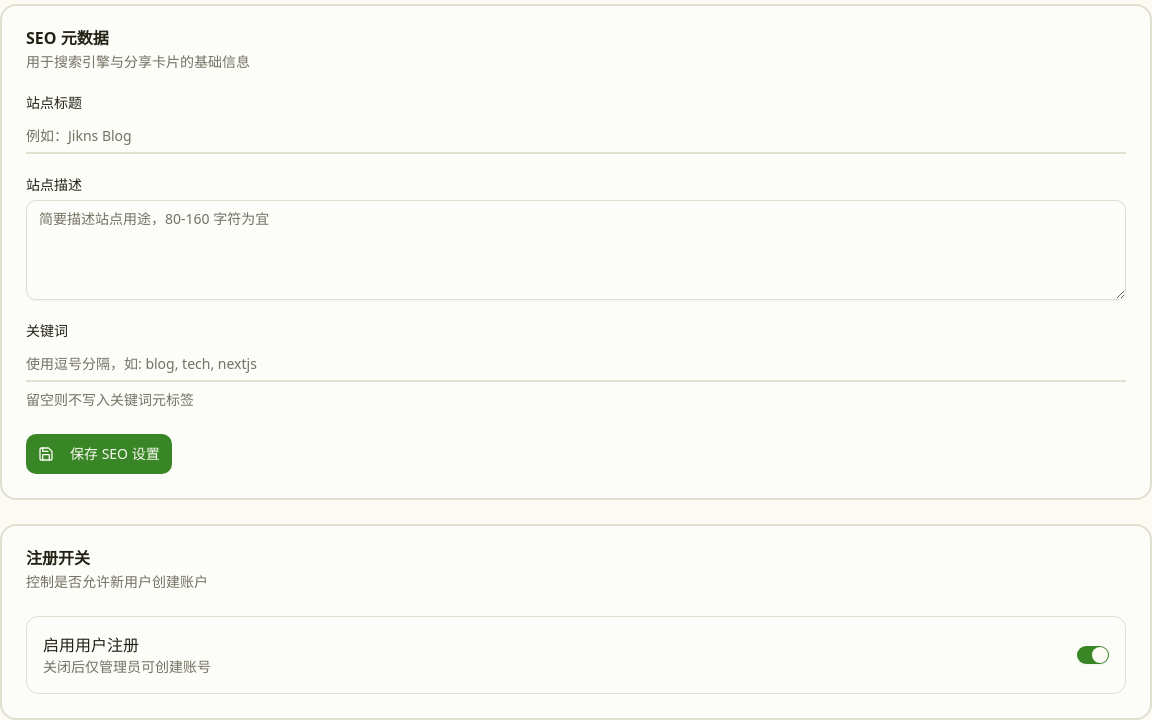
Test: AdminSettingsPage › 切换注册开关会立即保存
The width and height of the screenshot is (1152, 720).
(page scrolled)
Click the switch named "启用用户注册": [1093, 655] box x1=1077 y1=646 x2=1109 y2=664
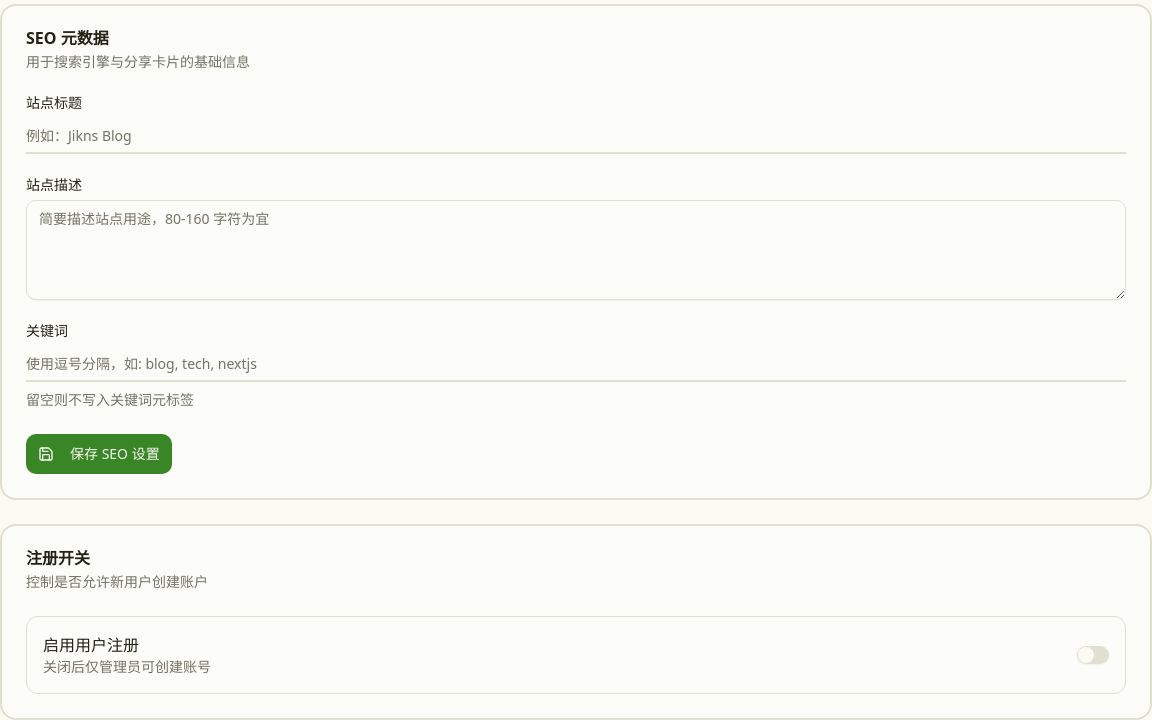
Result: the switch named "启用用户注册" is not checked at x1=1077 y1=646 x2=1109 y2=664
